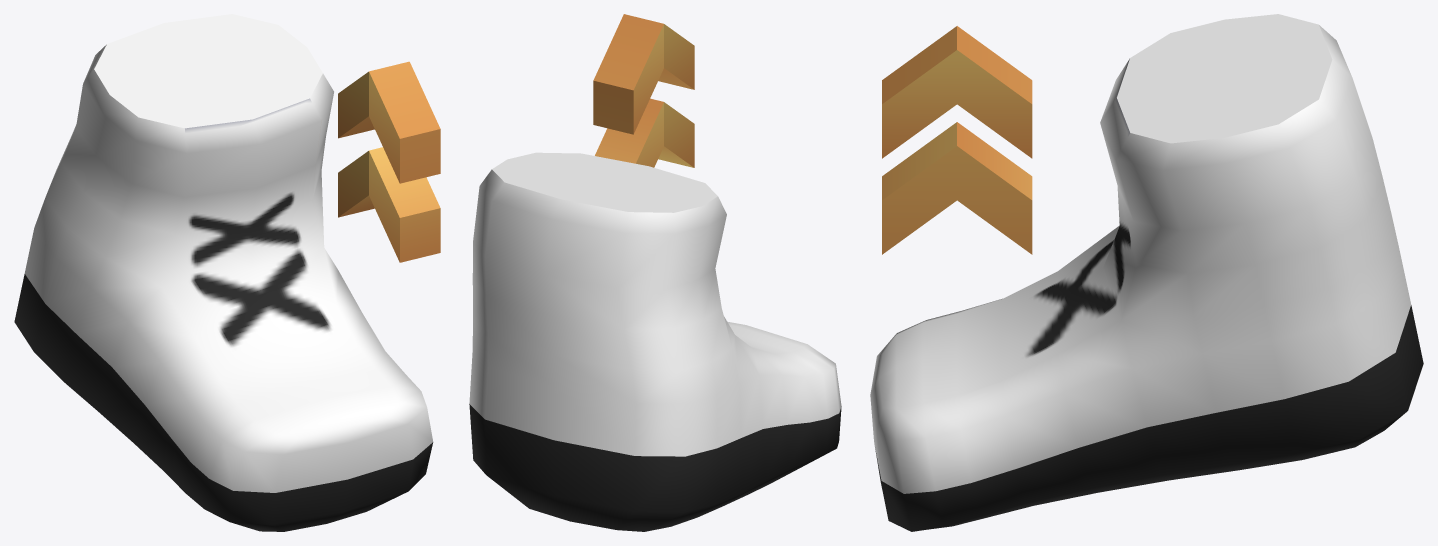
Rendered from speed buff.fbx.
3 views of the same model, side by side, from view 1: azimuth 30°, elevation 25°; view 2: azimuth 150°, elevation 25°; view 3: azimuth 270°, elevation 25° (orthographic). The views are drawn at different scales.
Visible parts, largest first — view 1: polySurface5, polySurface4, polySurface6; view 2: polySurface5, polySurface4, polySurface6; view 3: polySurface5, polySurface6, polySurface4.
Part boxes in pixels (box(x1,y1,x2,y2)): polySurface5: box(14, 14, 433, 531); polySurface4: box(338, 61, 440, 183); polySurface6: box(338, 147, 440, 262); polySurface5: box(469, 152, 841, 531); polySurface4: box(593, 14, 694, 134); polySurface6: box(595, 98, 694, 167); polySurface5: box(870, 14, 1423, 531); polySurface6: box(882, 122, 1032, 254); polySurface4: box(882, 26, 1032, 158).
Size of the model in its own units: 88.09 by 141 by 138.
